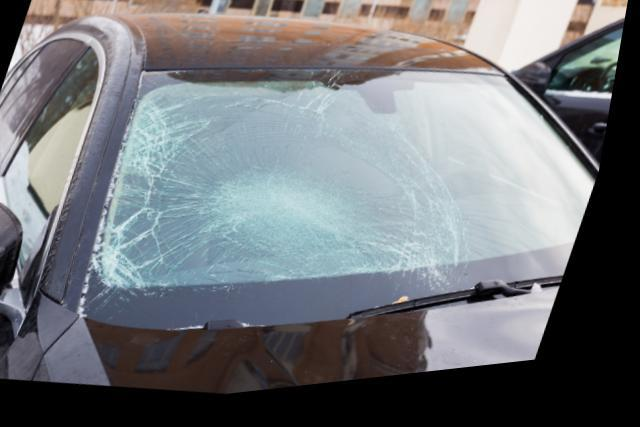dent: (466, 321, 566, 380)
glass shatter: (88, 74, 604, 334)
